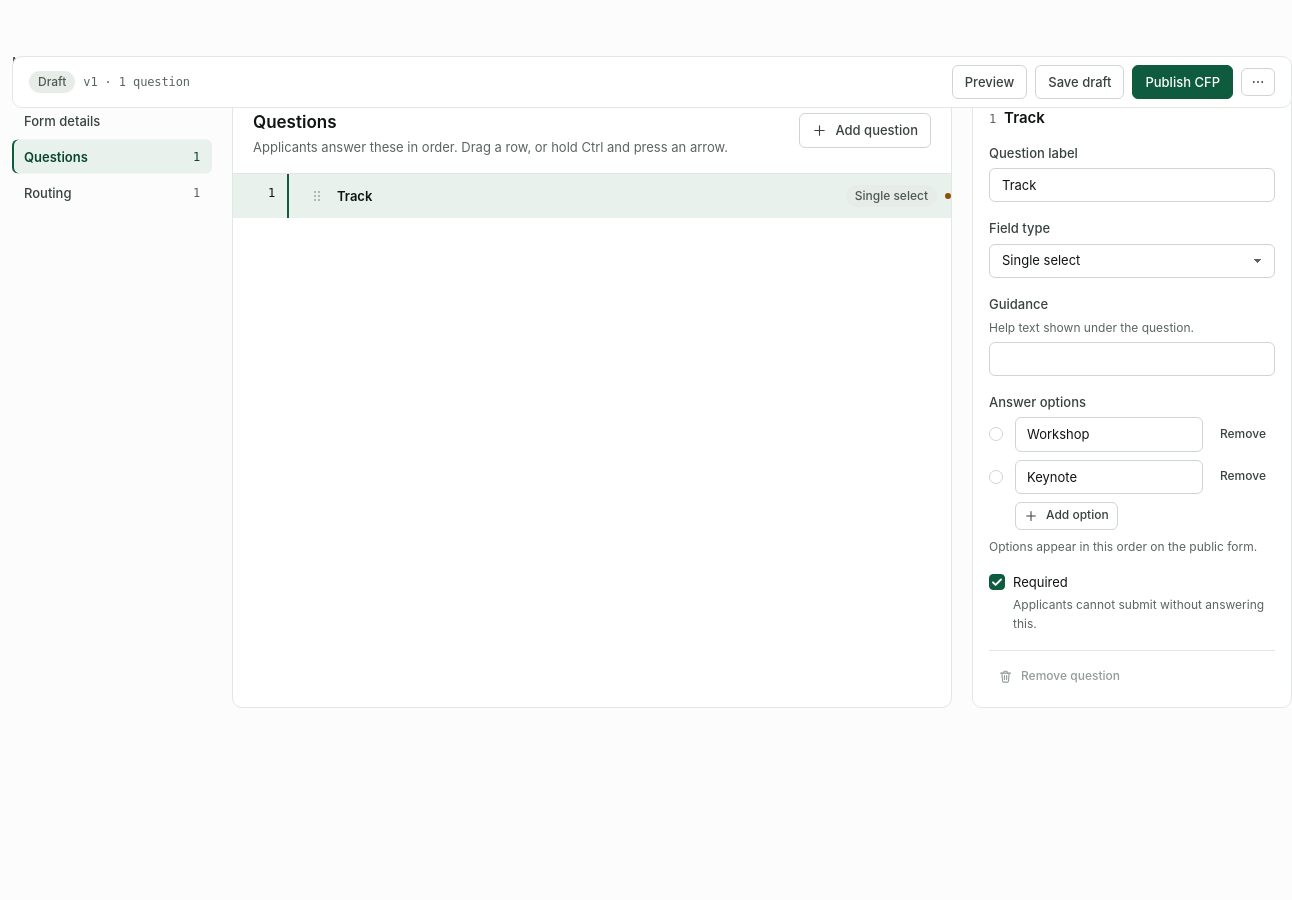
building the question list › names a stored route to a decision rather than rendering a blank control
Click the button "Routing 1".
click(112, 193)  # box 12,176 -> 212,210
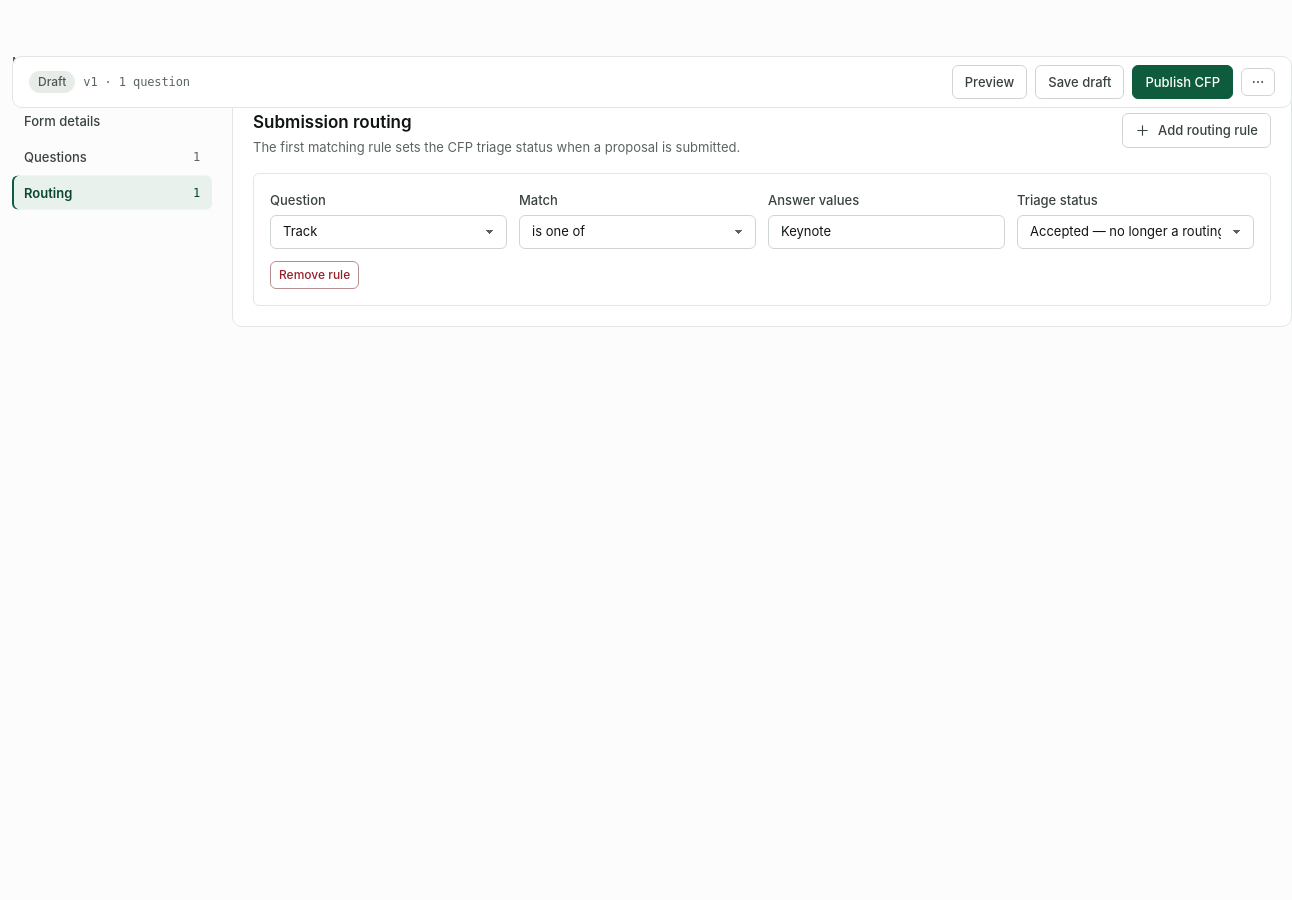
Expected: the dropdown labelled "Triage status" shows "Accepted — no longer a routing destination, choose another or remove this rule", 1017,215 -> 1254,249
